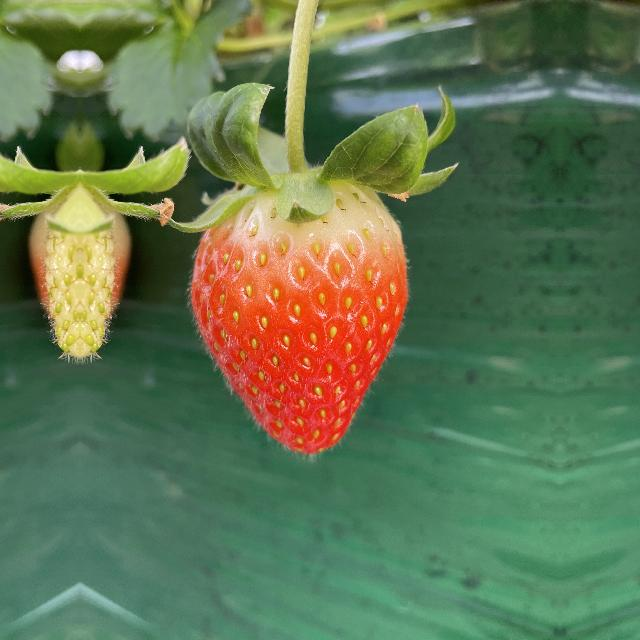Health_100: (173, 168, 411, 474)
